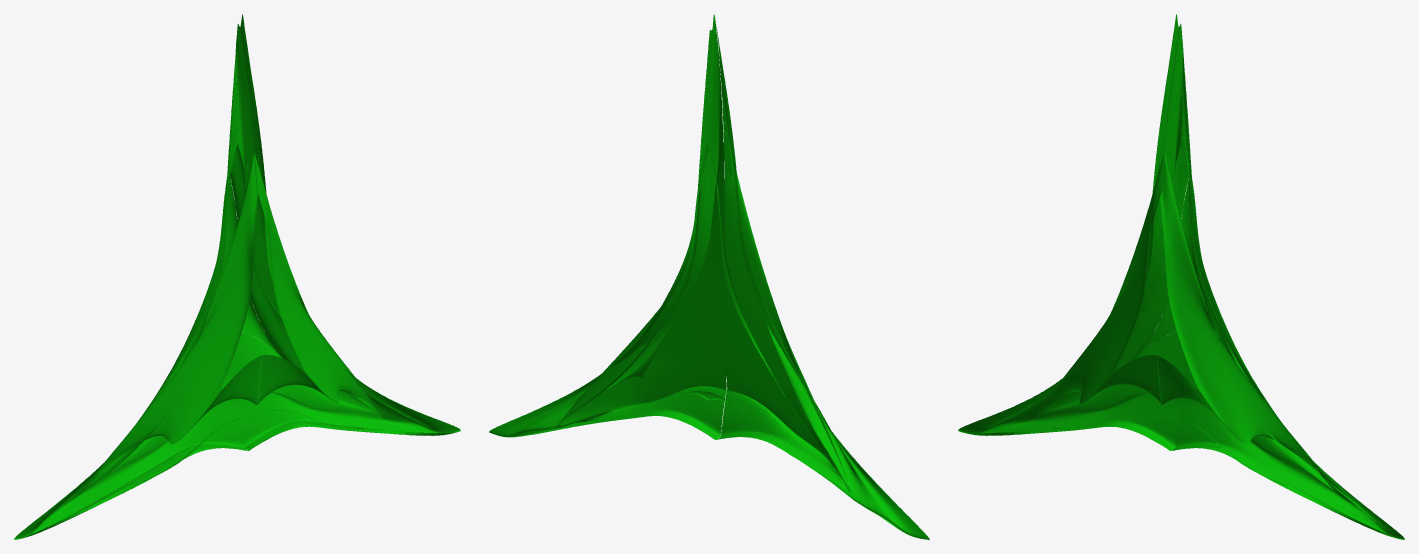
The model's file is dracoJet.gltf.
3 views of the same model, side by side, from view 1: azimuth 30°, elevation 25°; view 2: azimuth 150°, elevation 25°; view 3: azimuth 330°, elevation 25° (orthographic).
Parts seen in each view (by area): view 1: Node; view 2: Node; view 3: Node.
Boxes of the visible parts, x1,y1,x2,y2 form: Node: (14,14,460,539); Node: (489,14,929,539); Node: (958,14,1404,539).
Size of the model in its own units: 237 by 241 by 33.71.
